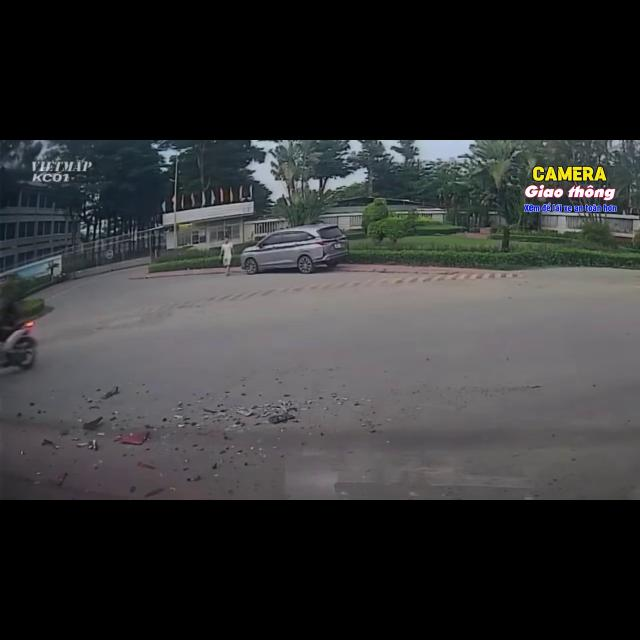car: (241, 224, 348, 274)
